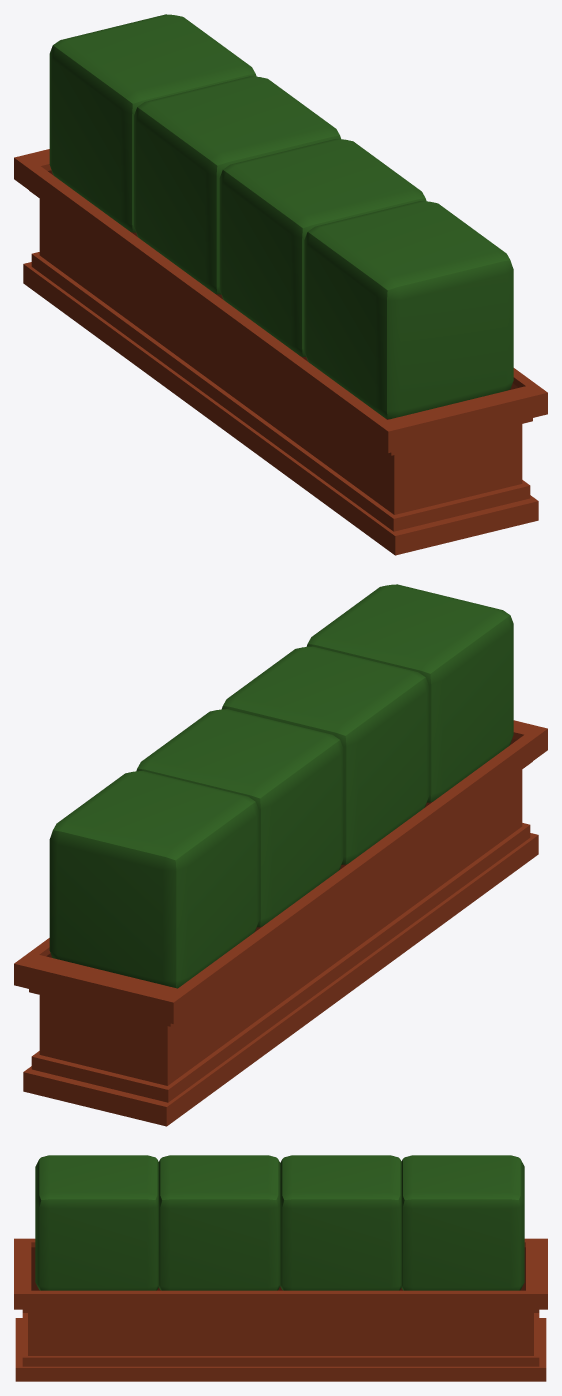
Rendered from Hedge_x4.fbx.
3 renders of one model, top to bottom at view 1: azimuth 30°, elevation 25°; view 2: azimuth 150°, elevation 25°; view 3: azimuth 270°, elevation 25°, orthographic. The views are drawn at different scales.
Parts seen in each view (by area): view 1: pCube11; view 2: pCube11; view 3: pCube11.
Boxes of the visible parts, x1=… form: pCube11: x1=14, y1=14, x2=547, y2=555; pCube11: x1=14, y1=584, x2=547, y2=1126; pCube11: x1=14, y1=1155, x2=547, y2=1381.
Bounding box in the file's own units: 1 × 1.53 × 4.06.
